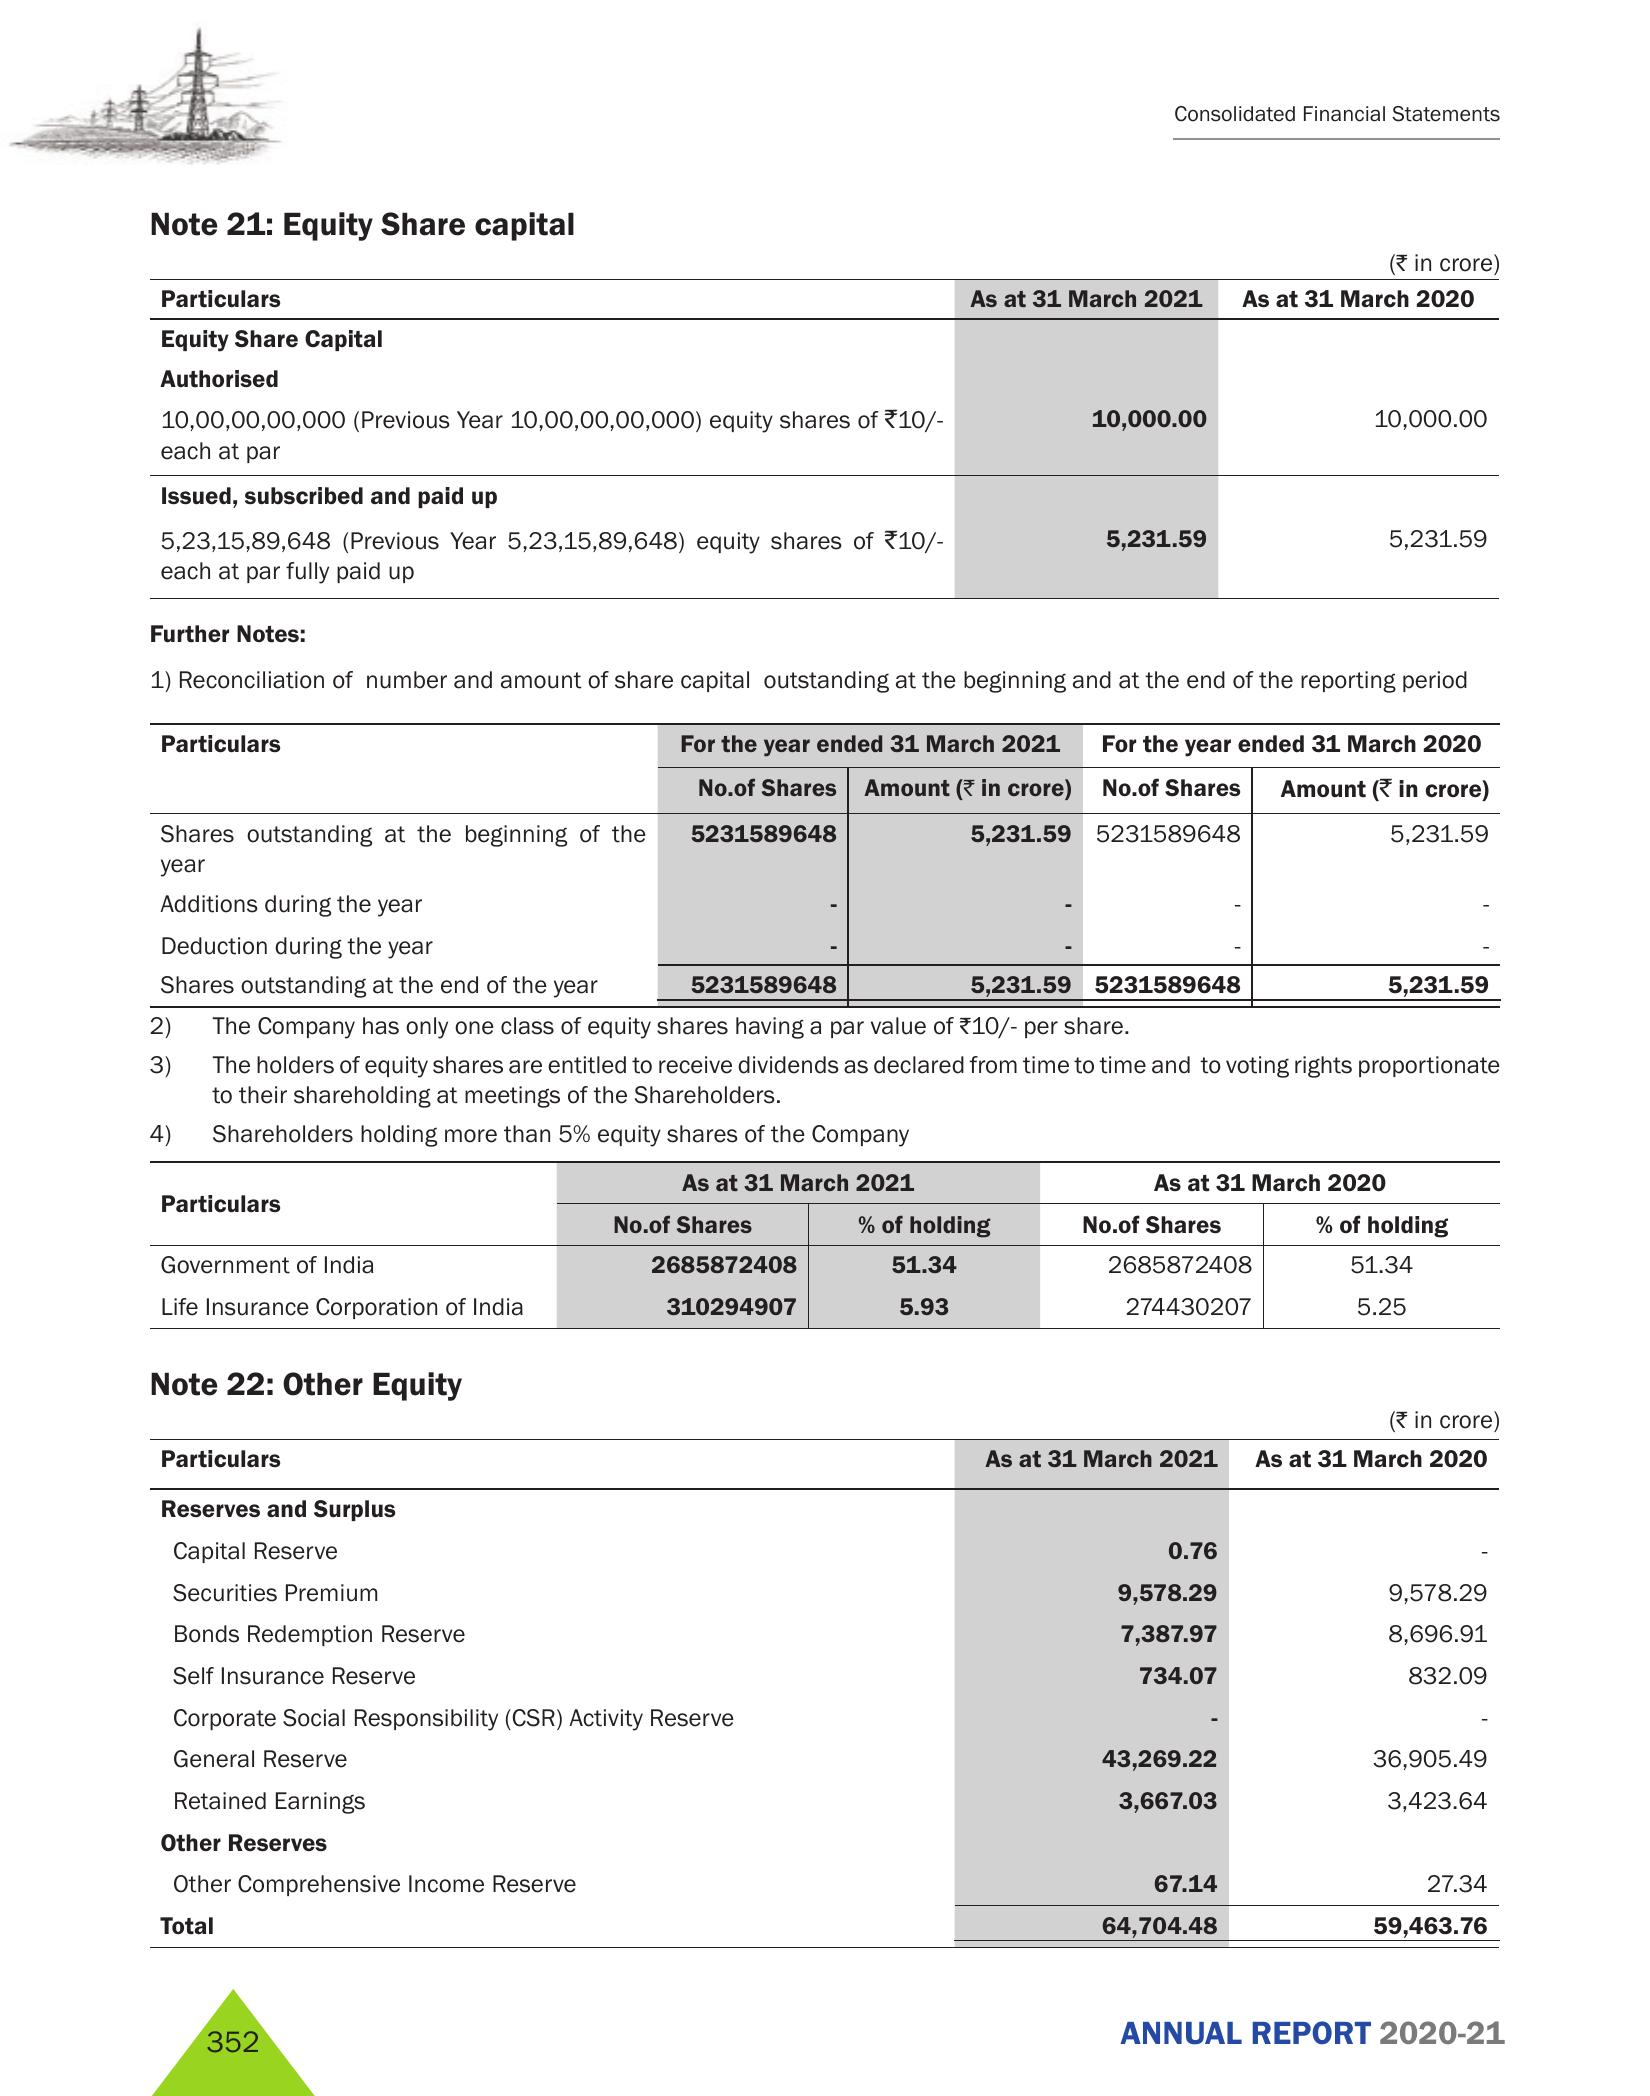Footer: (0, 1968, 1650, 2096)
Header: (0, 0, 1650, 175)
Table: (122, 1443, 1521, 1941), (129, 282, 1499, 597), (129, 711, 1499, 1009), (134, 1155, 1516, 1329)
